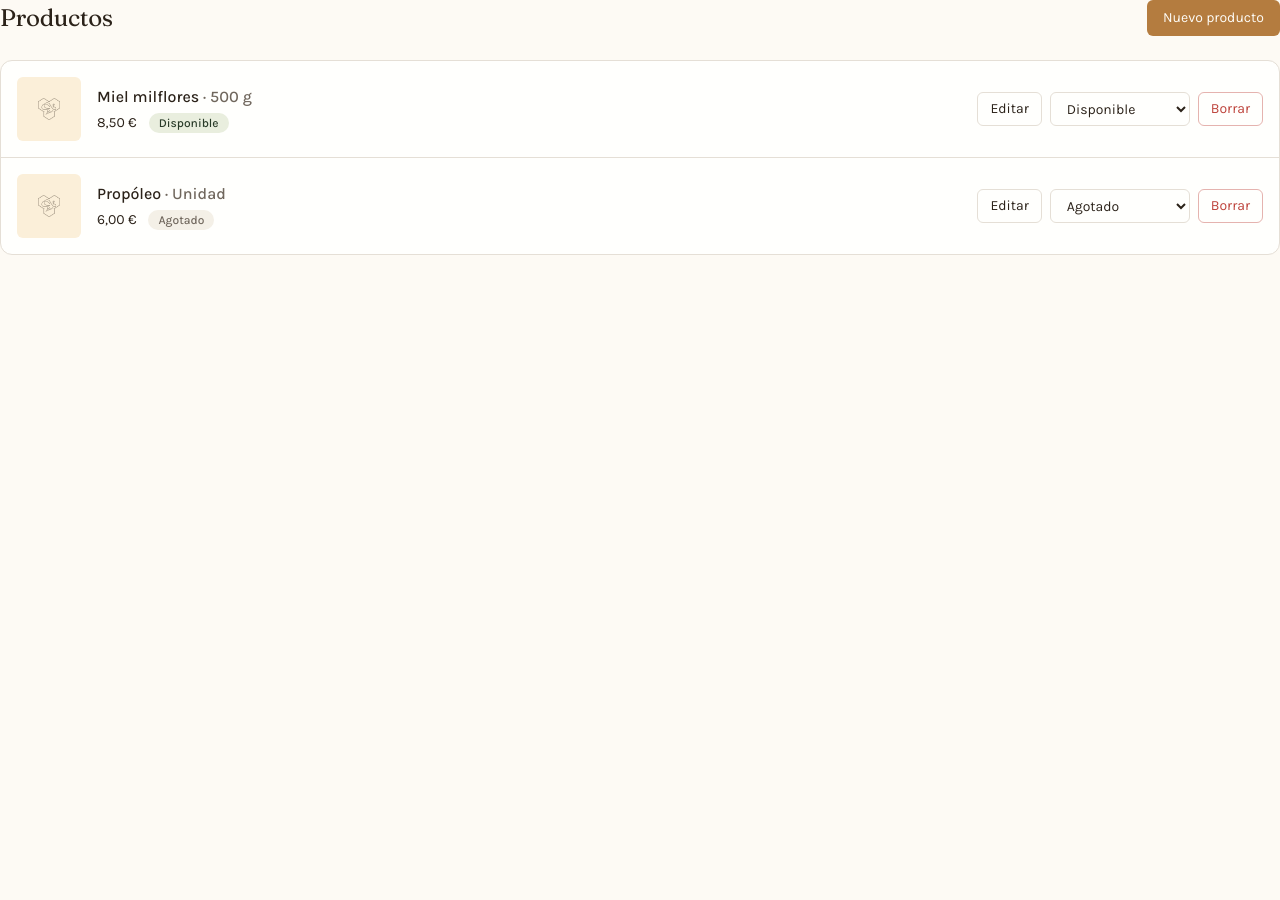
Test: AdminProductsView › borra un producto tras confirmarlo en el diálogo
This screenshot has width=1280, height=900.
Click the button "Borrar" in the row of "Miel milflores" at (1230, 109), box x1=1198 y1=92 x2=1263 y2=126
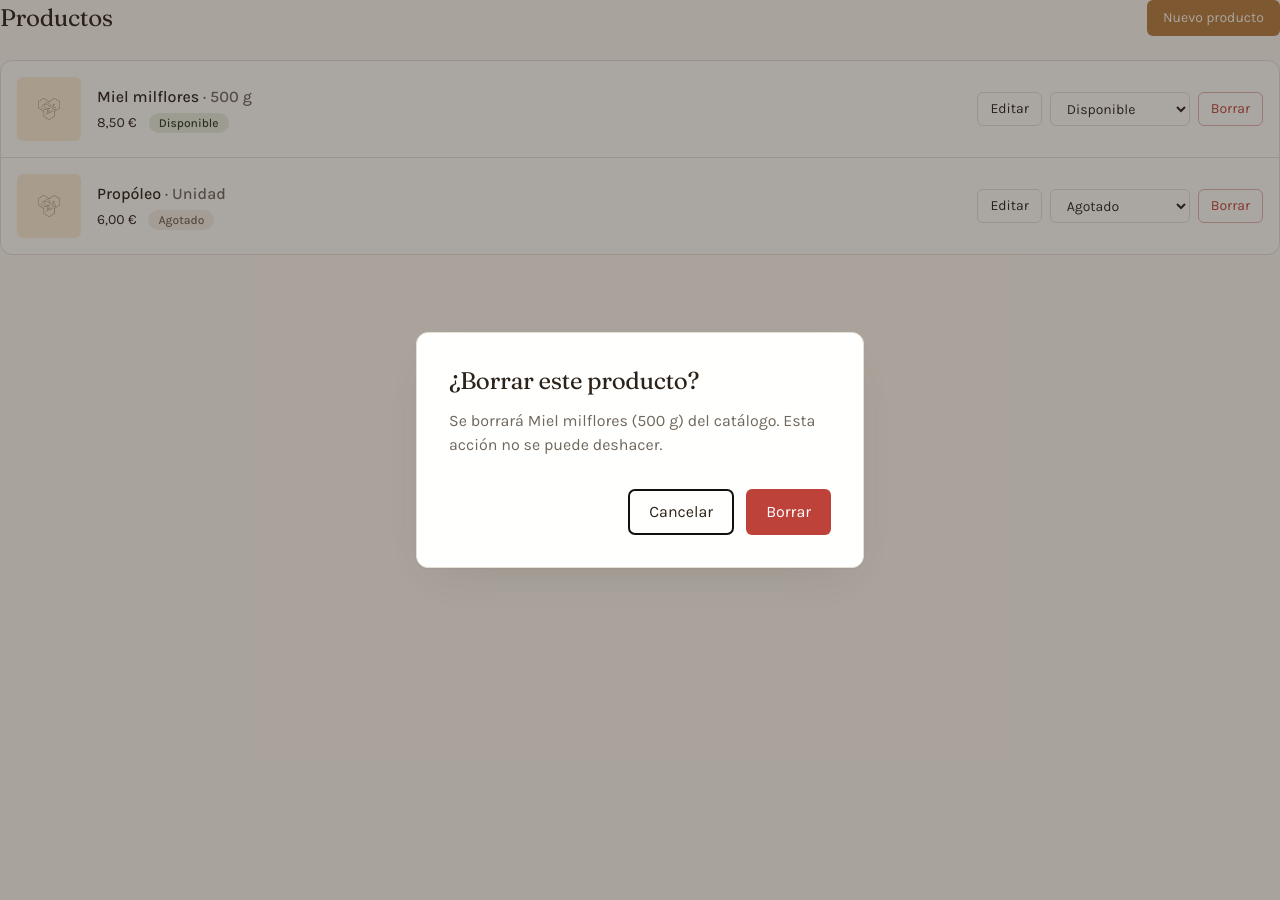
Now the dialog is shown, box x1=416 y1=332 x2=864 y2=568
Click the button "Borrar" at (789, 512), box x1=746 y1=489 x2=831 y2=535
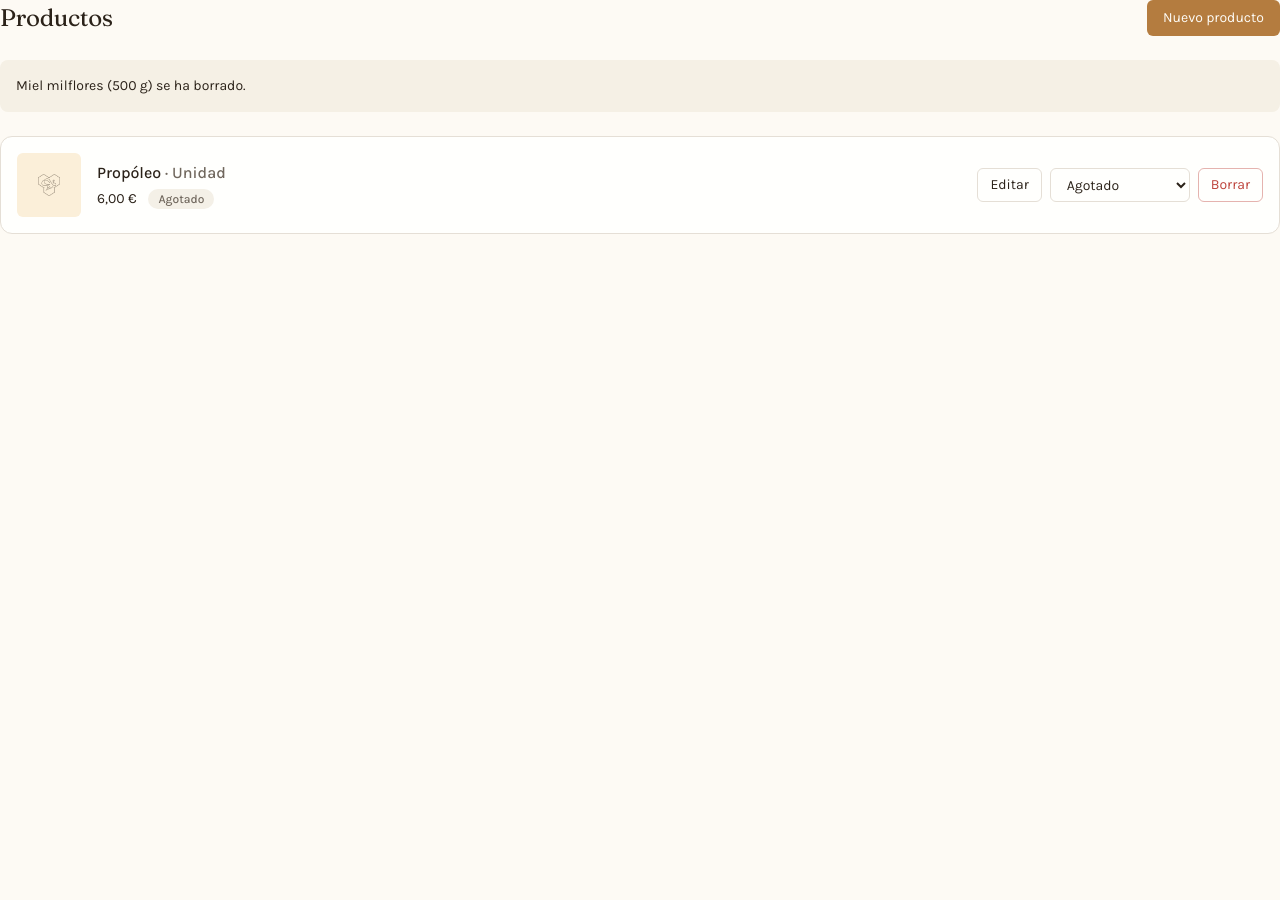
Now the number of list items is 1, box x1=1 y1=137 x2=1279 y2=233
